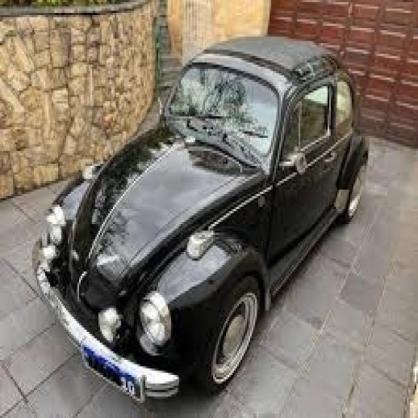car: (32, 38, 369, 403)
